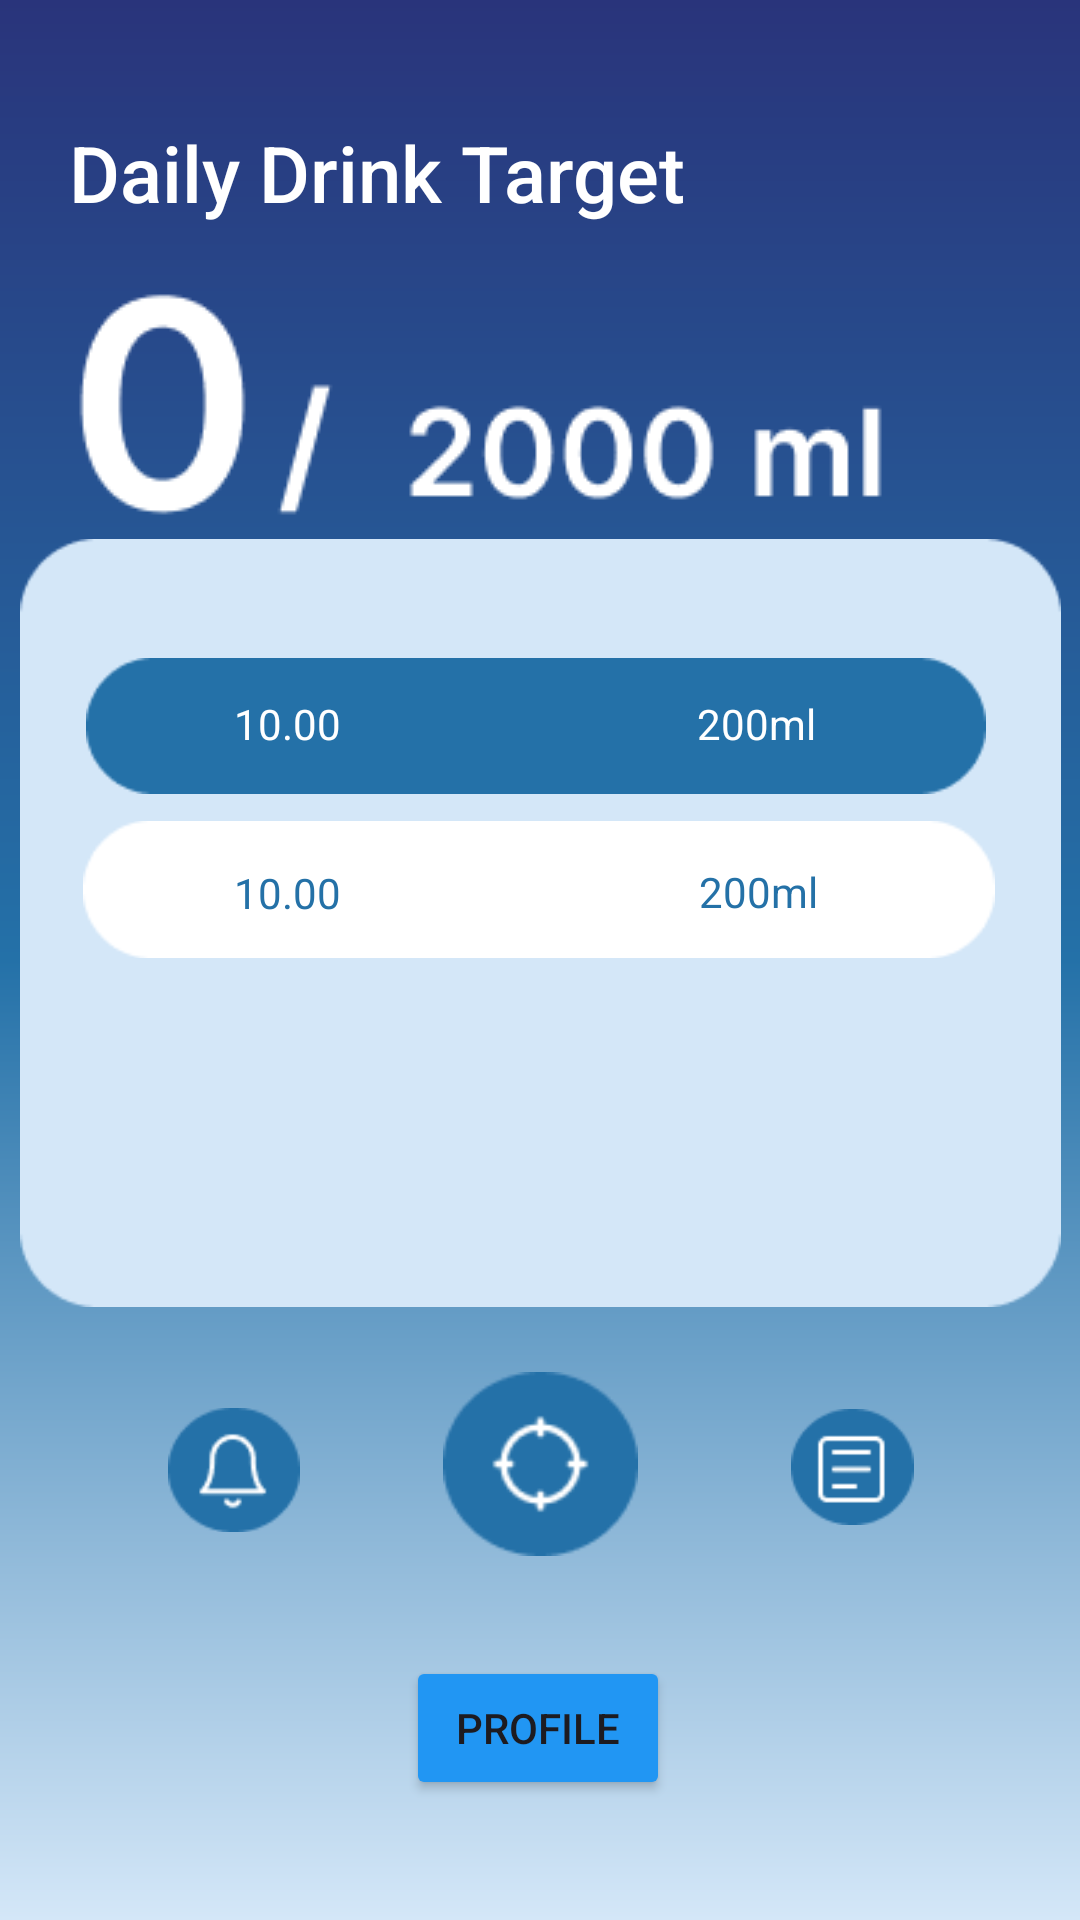

Where to tap for icons on this 1080px x 1920px app screen, as (x=x, y=y):
list: (x=852, y=1472)
notif: (x=234, y=1468)
target: (x=540, y=1464)
